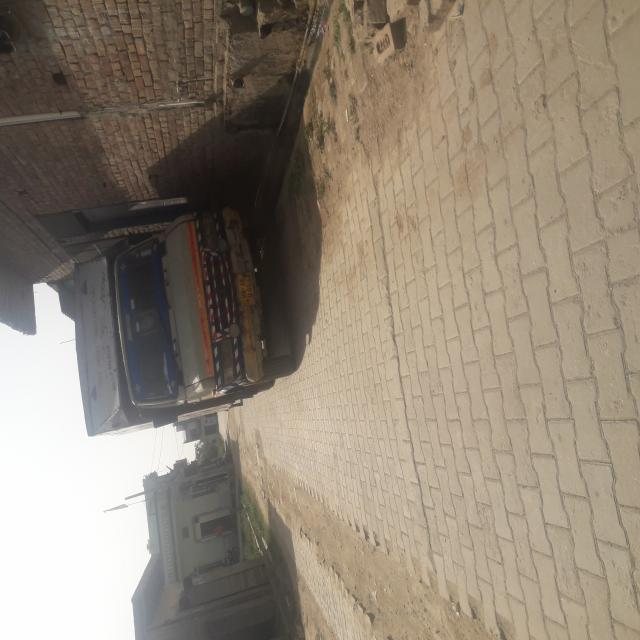Truck: (144, 94, 340, 374)
